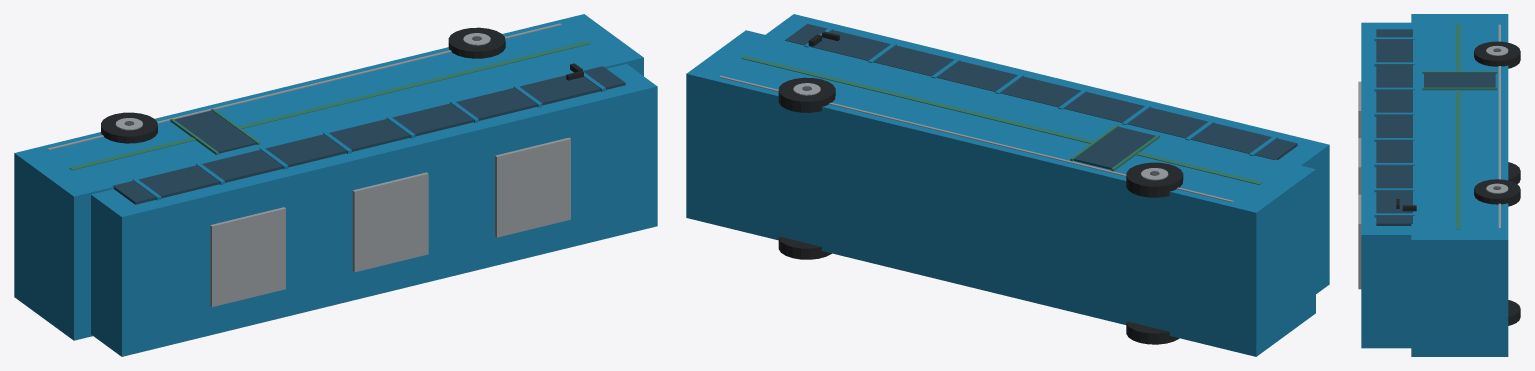
The model's file is RM_Bus_06.glb.
3 views of the same model, side by side, from view 1: azimuth 30°, elevation 25°; view 2: azimuth 150°, elevation 25°; view 3: azimuth 270°, elevation 25° (orthographic). The views are drawn at different scales.
Visible parts, largest first — view 1: part_001, part_000, part_002, part_038, part_039, part_037, part_013, part_040, part_030, part_024, part_014; view 2: part_000, part_002, part_001, part_013, part_040, part_024, part_030, part_014, part_021, part_027; view 3: part_000, part_001, part_002, part_040, part_013, part_030, part_024, part_014, part_039, part_042, part_027, part_021 (+5 smaller).
Part boxes in pixels (x1=…): part_001: x1=91, y1=64, x2=657, y2=356; part_000: x1=14, y1=14, x2=643, y2=340; part_002: x1=113, y1=66, x2=625, y2=204; part_038: x1=352, y1=172, x2=428, y2=272; part_039: x1=495, y1=137, x2=570, y2=237; part_037: x1=210, y1=207, x2=285, y2=306; part_013: x1=69, y1=41, x2=590, y2=170; part_040: x1=174, y1=110, x2=256, y2=153; part_030: x1=448, y1=27, x2=505, y2=58; part_024: x1=101, y1=112, x2=157, y2=143; part_014: x1=47, y1=23, x2=561, y2=150; part_000: x1=686, y1=30, x2=1315, y2=356; part_002: x1=785, y1=24, x2=1297, y2=160; part_001: x1=765, y1=14, x2=1329, y2=293; part_013: x1=741, y1=55, x2=1262, y2=184; part_040: x1=1074, y1=126, x2=1155, y2=169; part_024: x1=1126, y1=162, x2=1183, y2=197; part_030: x1=778, y1=77, x2=835, y2=112; part_014: x1=719, y1=76, x2=1233, y2=202; part_021: x1=1126, y1=321, x2=1179, y2=344; part_027: x1=778, y1=236, x2=831, y2=259; part_000: x1=1411, y1=14, x2=1508, y2=356; part_001: x1=1361, y1=22, x2=1411, y2=348; part_002: x1=1376, y1=29, x2=1412, y2=225; part_040: x1=1424, y1=72, x2=1495, y2=87; part_013: x1=1455, y1=23, x2=1460, y2=229; part_030: x1=1474, y1=179, x2=1520, y2=206; part_024: x1=1474, y1=41, x2=1520, y2=68; part_014: x1=1498, y1=24, x2=1500, y2=228; part_039: x1=1358, y1=194, x2=1361, y2=289; part_042: x1=1422, y1=87, x2=1497, y2=90; part_027: x1=1508, y1=300, x2=1520, y2=325; part_021: x1=1508, y1=162, x2=1520, y2=184.
Bounding box in the file's own units: 10.8 × 2.93 × 3.28.
